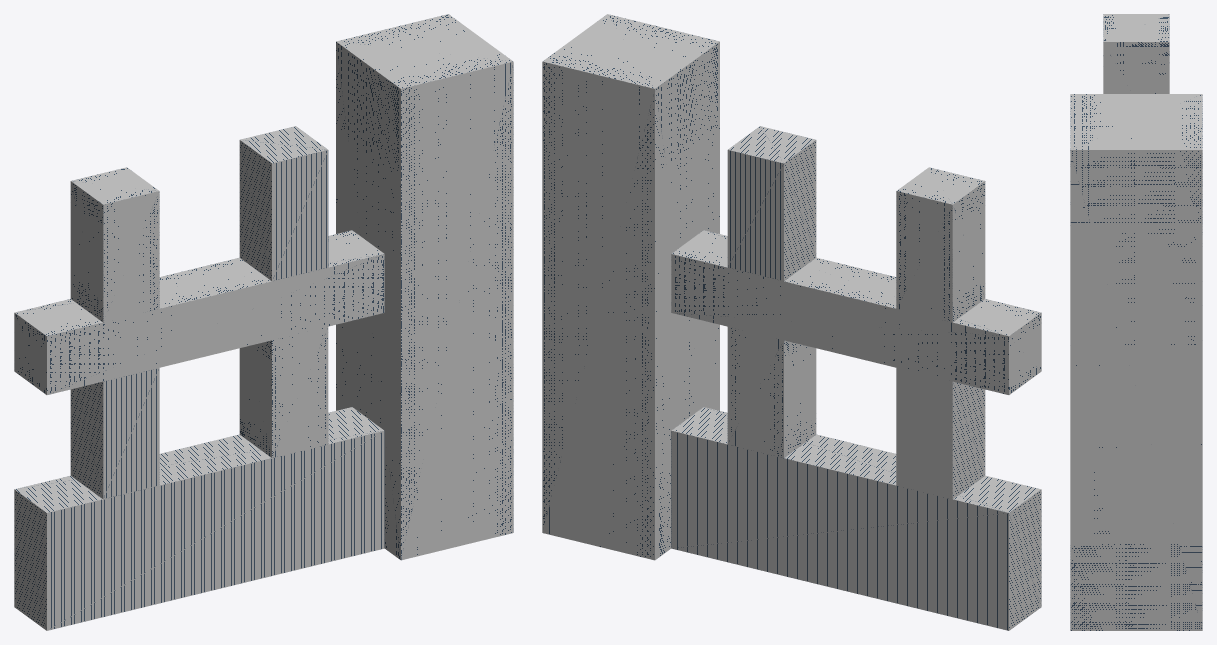
File: iron-fence.fbx
The picture shows the model from 3 angles, left to right: view 1: azimuth 30°, elevation 25°; view 2: azimuth 150°, elevation 25°; view 3: azimuth 270°, elevation 25°; orthographic projection. The views are drawn at different scales.
Parts seen in each view (by area): view 1: generated; view 2: generated; view 3: generated.
Boxes of the visible parts, x1,y1,x2,y2 form: generated: [14, 14, 513, 630]; generated: [542, 14, 1041, 630]; generated: [1070, 14, 1202, 630].
Bounding box in the file's own units: 80 × 80 × 20.
Materials: 1 (1 with a texture image).
